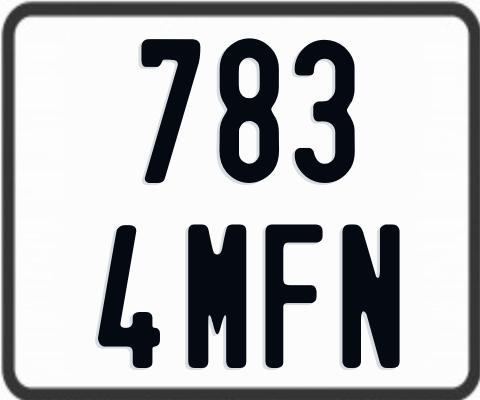3: (295, 39, 357, 188)
4: (97, 222, 161, 365)
7: (139, 37, 201, 187)
8: (217, 35, 280, 181)
F: (265, 222, 328, 366)
M: (185, 221, 249, 365)
N: (341, 221, 401, 369)
